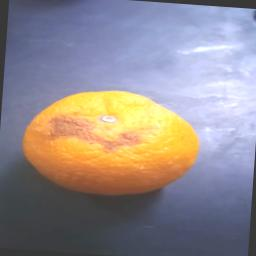Orange Unripe: (10, 70, 209, 204)
